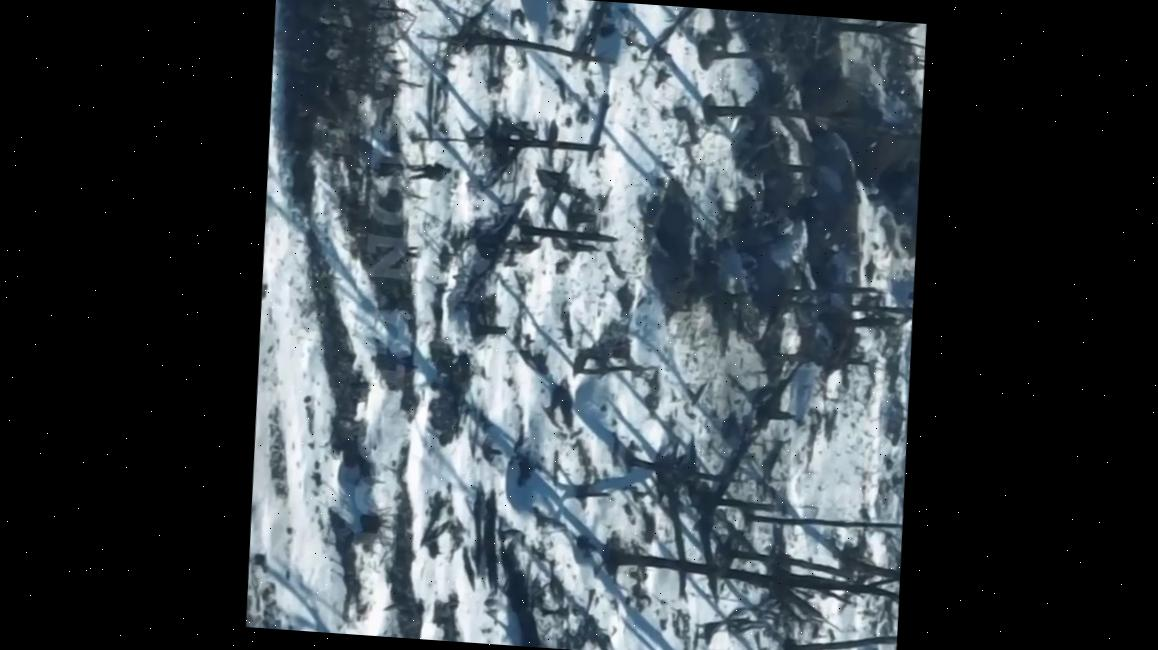person: (408, 157, 454, 182)
